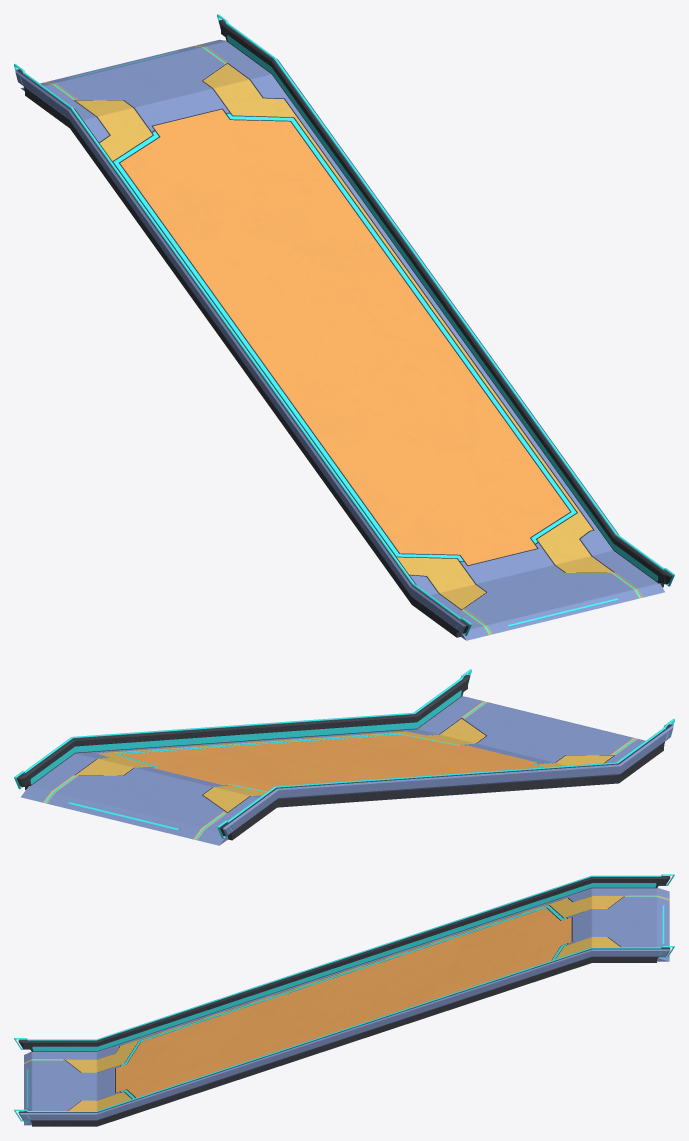
The model's file is AssetsA.fbx.
The picture shows the model from 3 angles, top to bottom: view 1: azimuth 30°, elevation 25°; view 2: azimuth 150°, elevation 25°; view 3: azimuth 270°, elevation 25°; orthographic projection. The views are drawn at different scales.
Parts seen in each view (by area): view 1: SM_VA_AssetsA.mo; view 2: SM_VA_AssetsA.mo; view 3: SM_VA_AssetsA.mo.
Boxes of the visible parts, x1,y1,x2,y2 form: SM_VA_AssetsA.mo: (14,14,674,640); SM_VA_AssetsA.mo: (14,669,674,845); SM_VA_AssetsA.mo: (14,874,674,1126).
Bounding box in the file's own units: 7.6 × 8.59 × 28.62.
